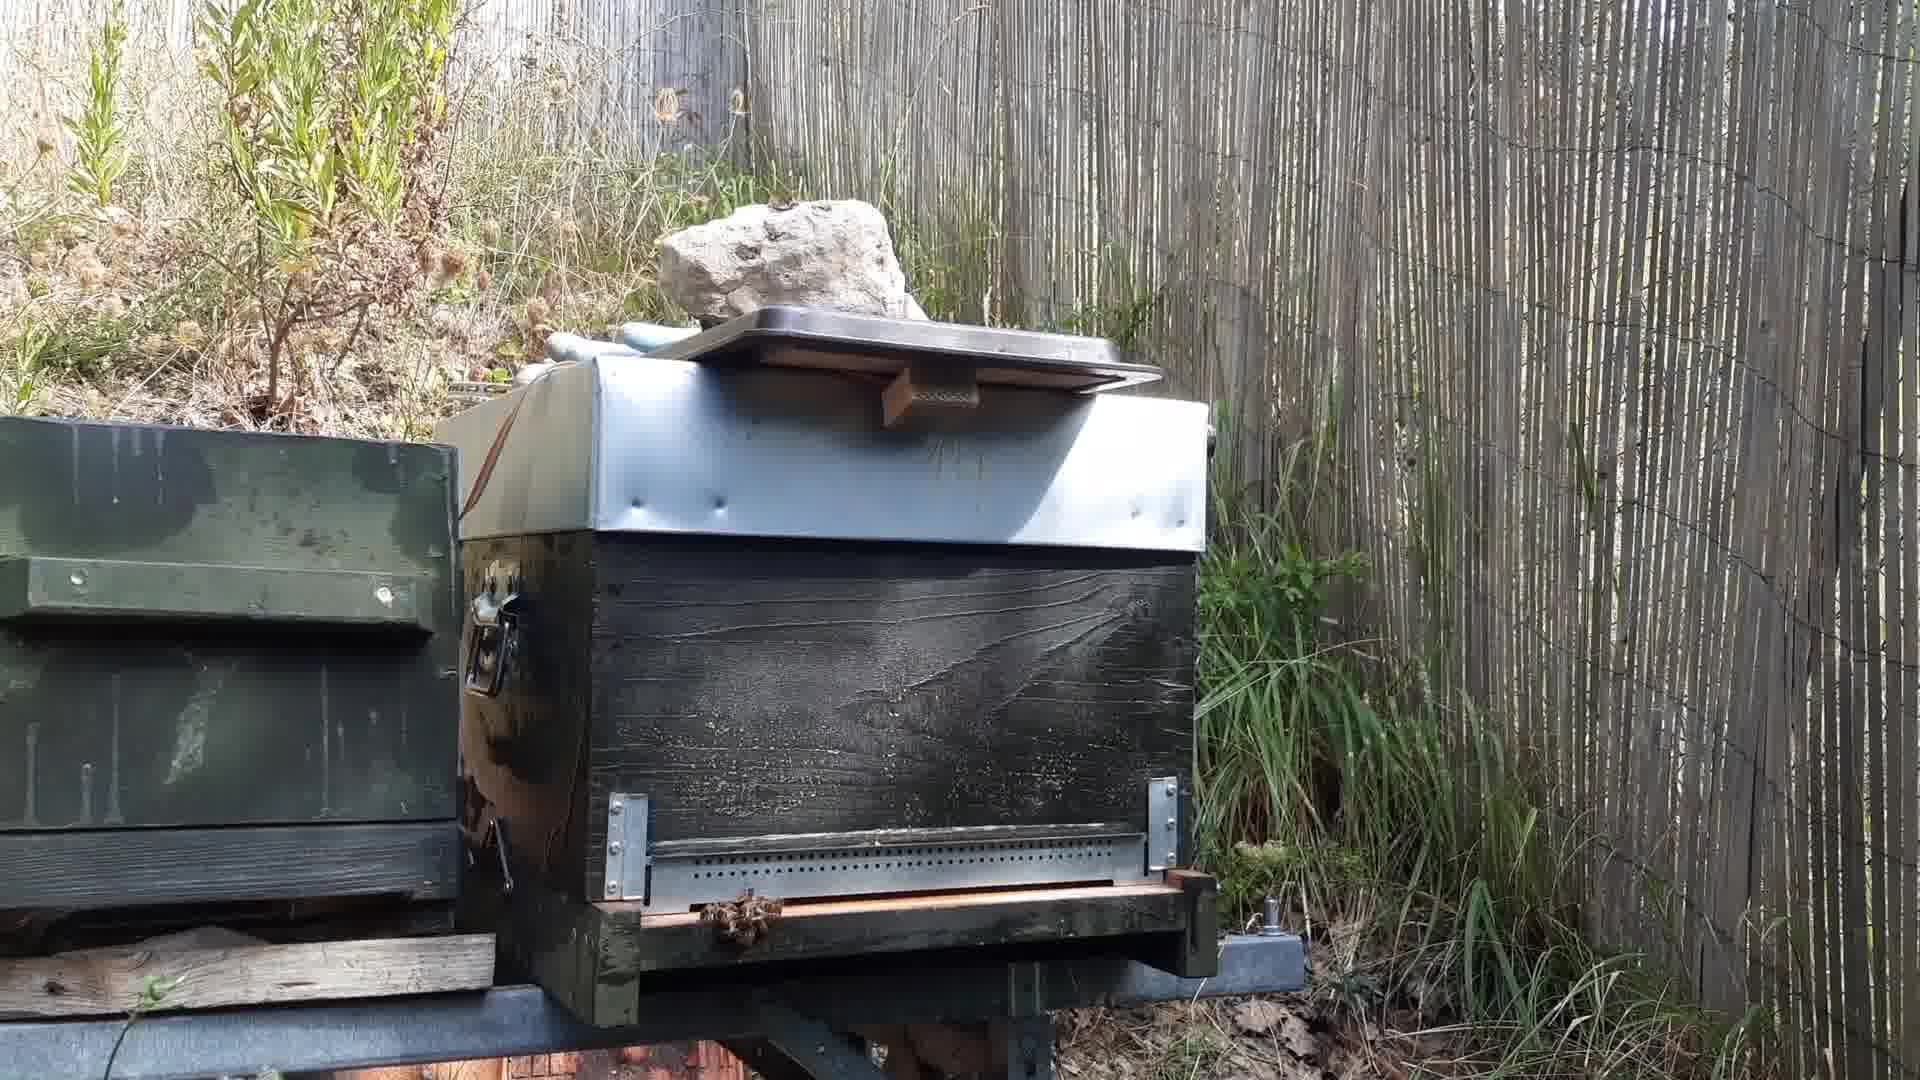bee: (702, 889, 786, 951)
